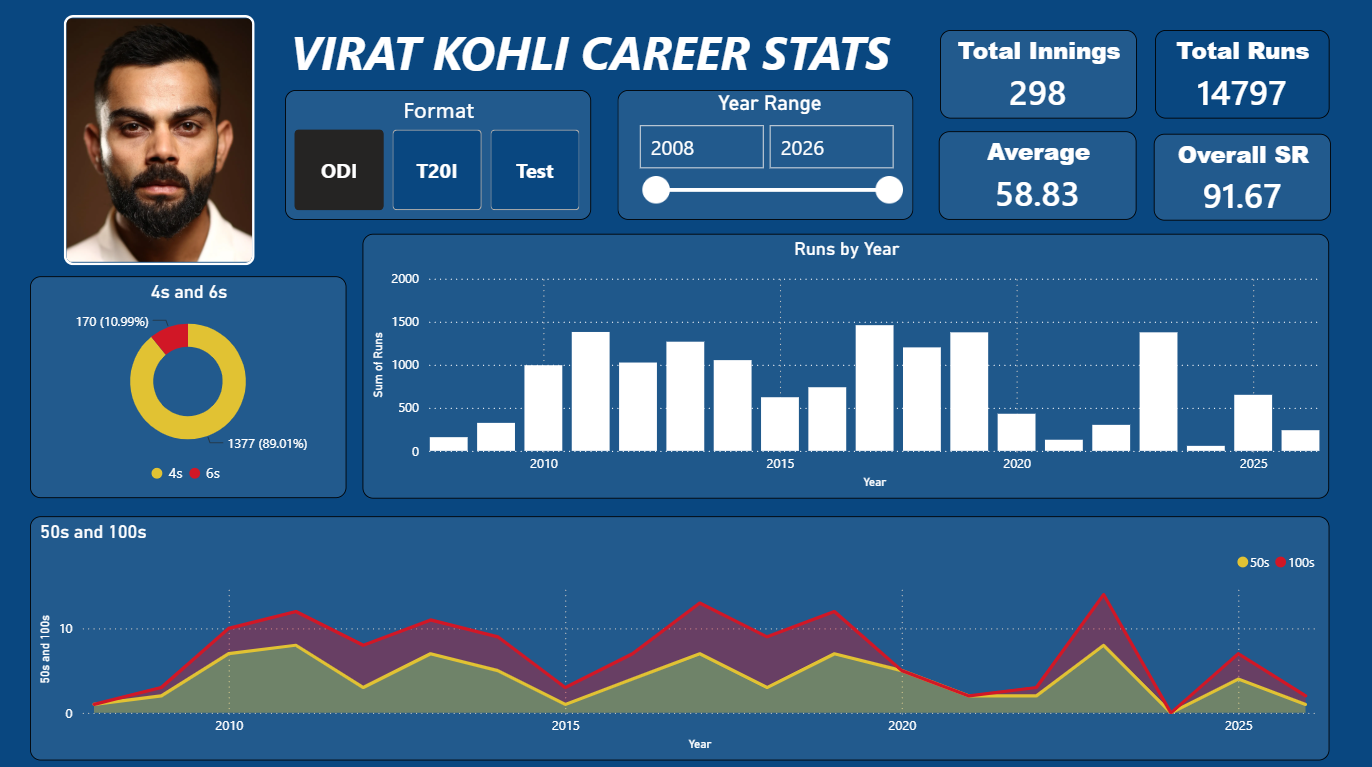

What the dashboard file says about the page in this screenshot:
{"tool":"powerbi","page":{"name":"Page ","canvas":[1280,720],"ordinal":0},"visuals":[{"type":"image","box":[59.1,13.8,177.4,232.4],"z":0},{"type":"cardVisual","title":"Total Innings","fields":{"Data":["Sum(Sheet1.Innings)"]},"box":[874.6,27.5,182.9,82.5],"z":1000},{"type":"textbox","box":[265.4,13.8,599.6,82.5],"z":2000},{"type":"cardVisual","title":"Total Runs","fields":{"Data":["Sum(Sheet1.Runs)"]},"box":[1074.3,27.5,162.3,82.5],"z":3000},{"type":"cardVisual","title":" Average","fields":{"Data":["Avg(Sheet1.Avg)"]},"box":[873.2,122.4,184.3,82.5],"z":4000},{"type":"advancedSlicerVisual","fields":{"Values":["Sheet1.Format"]},"box":[265.4,83.9,284.7,121],"z":5000},{"type":"cardVisual","title":"Overall SR","fields":{"Data":["Avg(Sheet1.SR)"]},"box":[1072.7,124.1,165,81.1],"z":6000},{"type":"clusteredColumnChart","title":"Runs by Year","fields":{"Category":["Sheet1.Year"],"Y":["Sum(Sheet1.Runs)"]},"box":[336.9,217.3,899.4,246.2],"z":7000},{"type":"slicer","title":"Year Range","fields":{"Values":["Sheet1.Year"]},"box":[574.8,83.9,275,121],"z":8000},{"type":"donutChart","title":"4s and 6s","fields":{"Y":["Sum(Sheet1.4s)","Sum(Sheet1.6s)"]},"box":[27.5,257.2,294.3,206.3],"z":9000},{"type":"stackedAreaChart","title":"50s and 100s ","fields":{"Category":["Sheet1.Year"],"Y":["Sum(Sheet1.50)","Sum(Sheet1.100)"]},"box":[27.5,479.9,1208.8,226.9],"z":10000}]}

Visuals, with their boxes in screenshot pixels (x1, y1, x2, y2), scaled from the page's 1280x720 canvas onto the 1372x767 screenshot:
image: 63,15,253,262
"Total Innings" cardVisual: 937,29,1134,117
textbox: 284,15,927,103
"Total Runs" cardVisual: 1152,29,1325,117
" Average" cardVisual: 936,130,1134,218
advancedSlicerVisual - Sheet1.Format: 284,89,590,218
"Overall SR" cardVisual: 1150,132,1327,219
"Runs by Year" clusteredColumnChart: 361,231,1325,494
"Year Range" slicer: 616,89,911,218
"4s and 6s" donutChart: 29,274,345,494
"50s and 100s " stackedAreaChart: 29,511,1325,753
